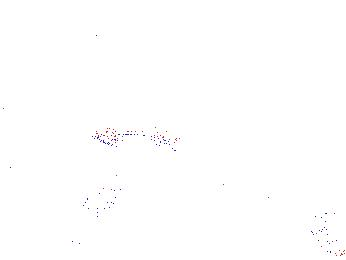X-ray fish: (81, 177, 125, 209)
glassfish: (66, 169, 120, 254), (89, 122, 195, 163)
